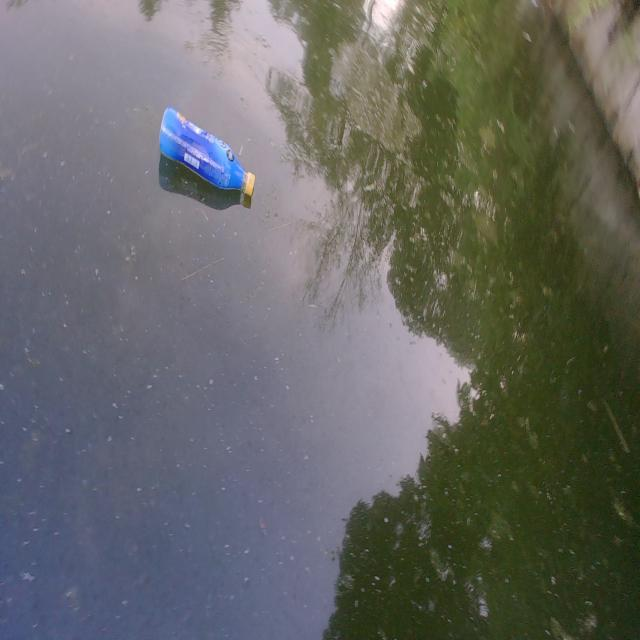bottle: (138, 78, 276, 226)
